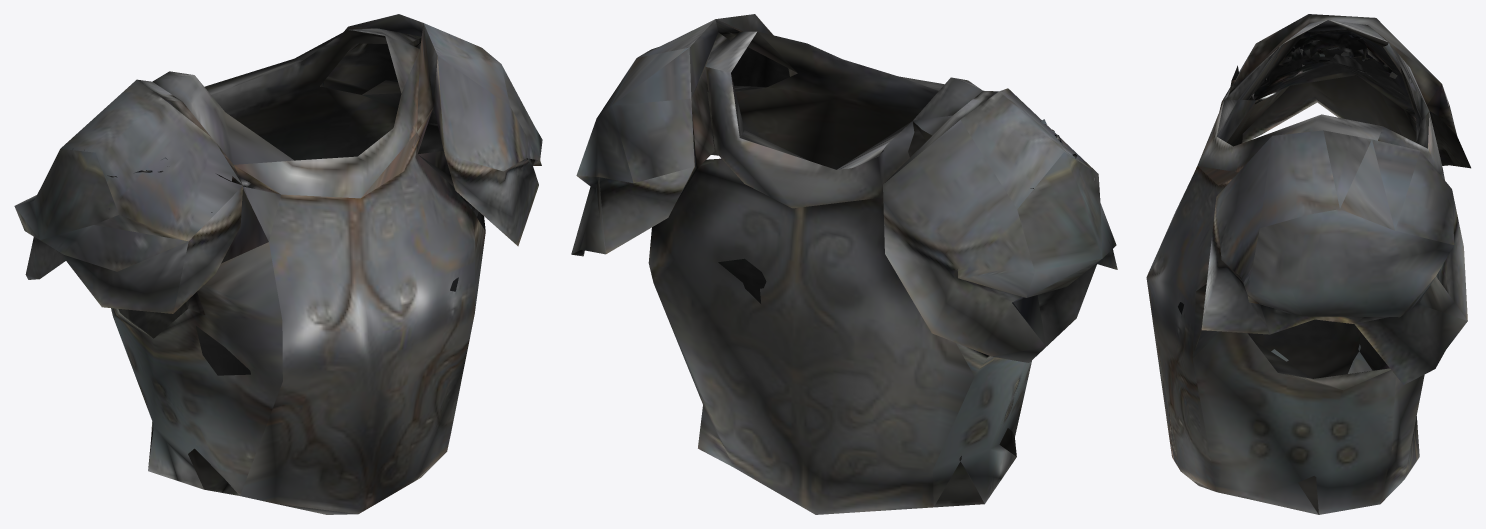
The model's file is breast_plate.comp.glb.
3 renders of one model, left to right at view 1: azimuth 30°, elevation 25°; view 2: azimuth 150°, elevation 25°; view 3: azimuth 270°, elevation 25°, orthographic. The views are drawn at different scales.
Visible parts, largest first — view 1: breast-plate; view 2: breast-plate; view 3: breast-plate.
Boxes of the visible parts, <box> form: breast-plate: <box>14,14,542,514</box>; breast-plate: <box>571,14,1117,514</box>; breast-plate: <box>1146,14,1470,514</box>.
Bounding box in the file's own units: 0.9956 × 0.7908 × 0.5862.
1 material, 1 textured.
